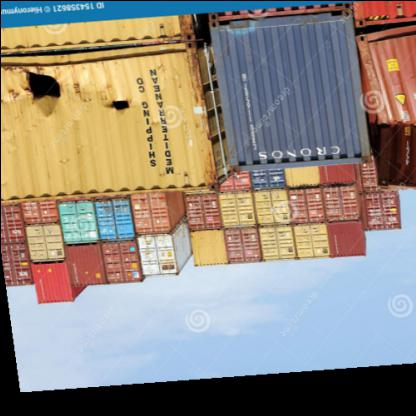Damage: (10, 47, 78, 121), (98, 94, 150, 128)
